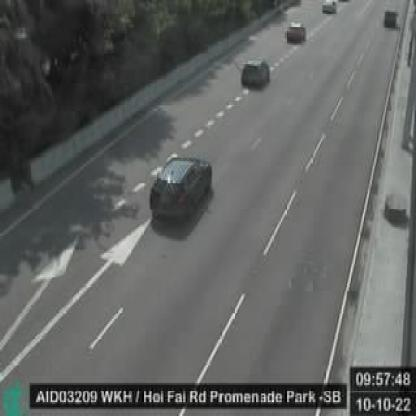Car: (151, 157, 211, 223), (242, 57, 271, 89), (287, 21, 306, 41), (384, 7, 400, 28), (321, 1, 336, 13)
